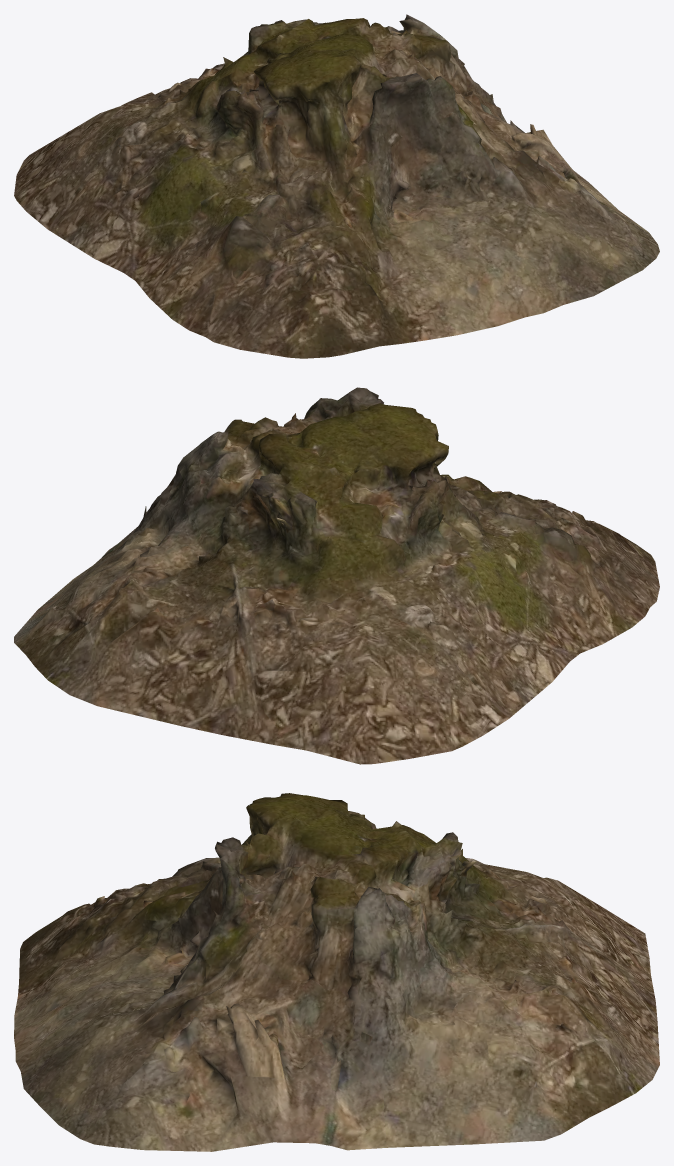
Rendered from tree_stump_01.glb.
3 views of the same model, one above another, from view 1: azimuth 30°, elevation 25°; view 2: azimuth 150°, elevation 25°; view 3: azimuth 270°, elevation 25° (orthographic). The views are drawn at different scales.
Parts seen in each view (by area): view 1: tree_stump_01; view 2: tree_stump_01; view 3: tree_stump_01.
Boxes of the visible parts, bbox=[...] form: tree_stump_01: bbox=[14, 14, 659, 358]; tree_stump_01: bbox=[14, 387, 659, 764]; tree_stump_01: bbox=[14, 793, 659, 1151].
Size of the model in its own units: 1.43 by 0.571 by 1.59.
1 material, 1 textured.
